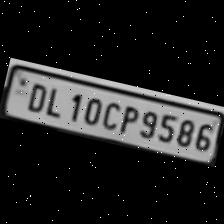0: (78, 92, 105, 125)
1: (60, 87, 86, 121)
5: (152, 107, 180, 144)
6: (190, 116, 216, 152)
8: (172, 113, 198, 148)
9: (134, 104, 160, 138)
C: (98, 96, 122, 130)
D: (20, 76, 50, 112)
L: (40, 81, 67, 118)
P: (116, 100, 141, 134)
